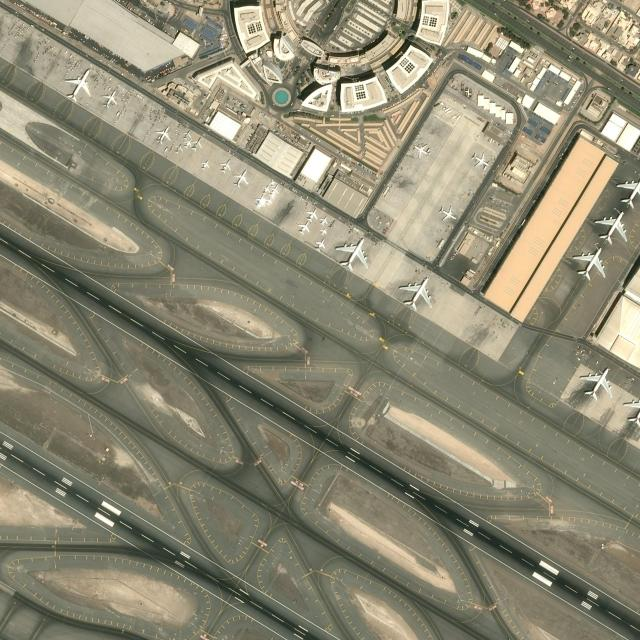1: (615, 178, 640, 208), (622, 398, 640, 428)
aircraft: (572, 247, 606, 281), (398, 276, 432, 310), (578, 367, 612, 400), (595, 211, 628, 244), (335, 237, 367, 271), (64, 68, 92, 102), (232, 169, 248, 188), (155, 125, 171, 144), (102, 89, 117, 109), (413, 142, 431, 158), (471, 152, 489, 167), (438, 206, 456, 220), (218, 159, 232, 173), (306, 208, 318, 222), (298, 221, 310, 235), (315, 238, 325, 252), (192, 137, 202, 151), (255, 194, 264, 207), (270, 185, 280, 195), (200, 160, 210, 170), (183, 138, 191, 150), (183, 128, 191, 140), (261, 184, 269, 194), (328, 219, 336, 228), (319, 216, 327, 225), (265, 197, 273, 206), (175, 144, 183, 153), (269, 179, 276, 187), (319, 228, 326, 235)
